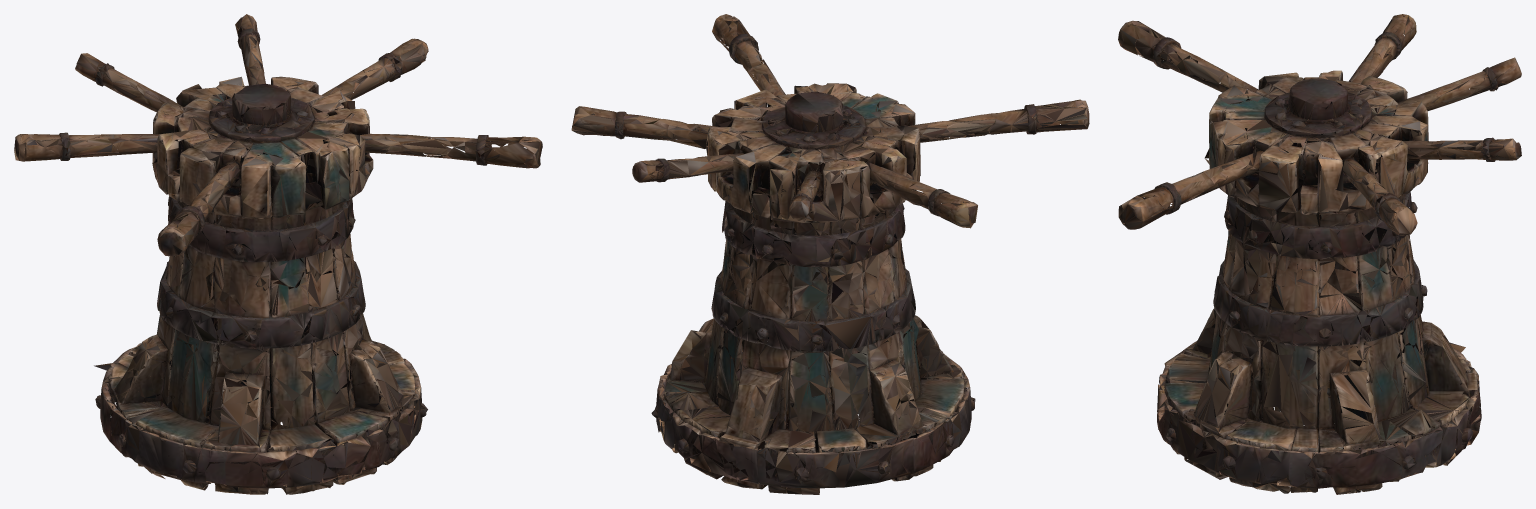
The model's file is harbor-capstan.glb.
3 renders of one model, left to right at view 1: azimuth 30°, elevation 25°; view 2: azimuth 150°, elevation 25°; view 3: azimuth 270°, elevation 25°, orthographic. The views are drawn at different scales.
Visible parts, largest first — view 1: harbor-capstan; view 2: harbor-capstan; view 3: harbor-capstan.
Part boxes in pixels (x1=…): harbor-capstan: x1=14, y1=14, x2=542, y2=494; harbor-capstan: x1=571, y1=14, x2=1089, y2=494; harbor-capstan: x1=1118, y1=14, x2=1521, y2=494.
Bounding box in the file's own units: 3.54 × 2.83 × 2.98.
1 material, 1 textured.
